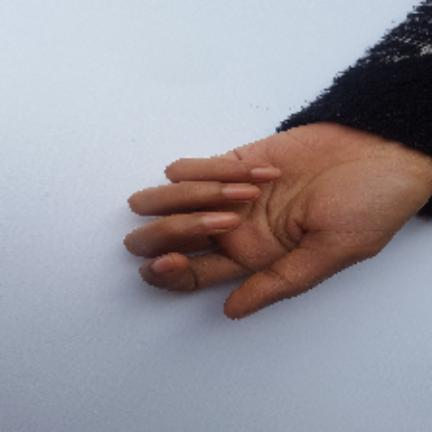Nail: (222, 185, 261, 199), (202, 214, 240, 228), (154, 255, 173, 273), (251, 168, 281, 179)
